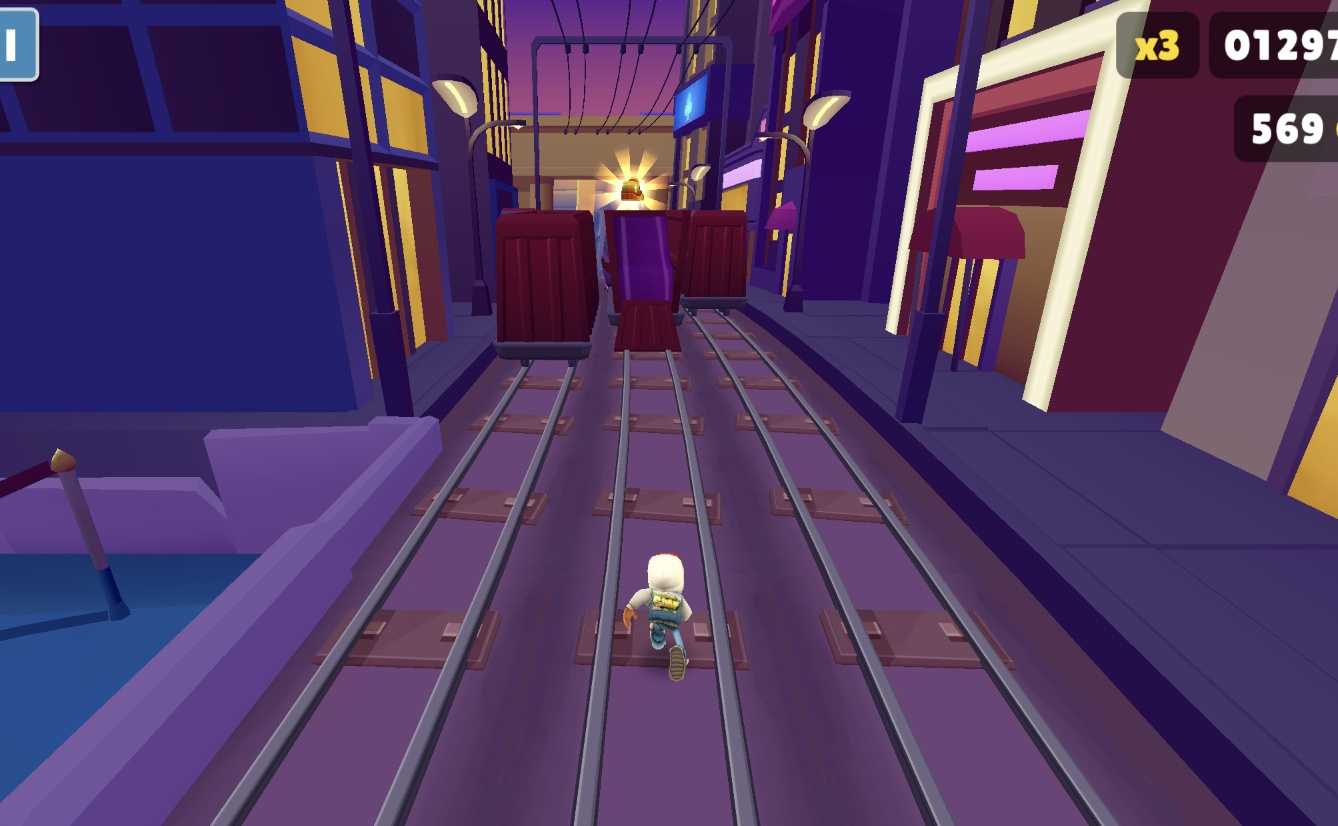train: (489, 207, 604, 362), (609, 207, 691, 362), (674, 212, 756, 297)
